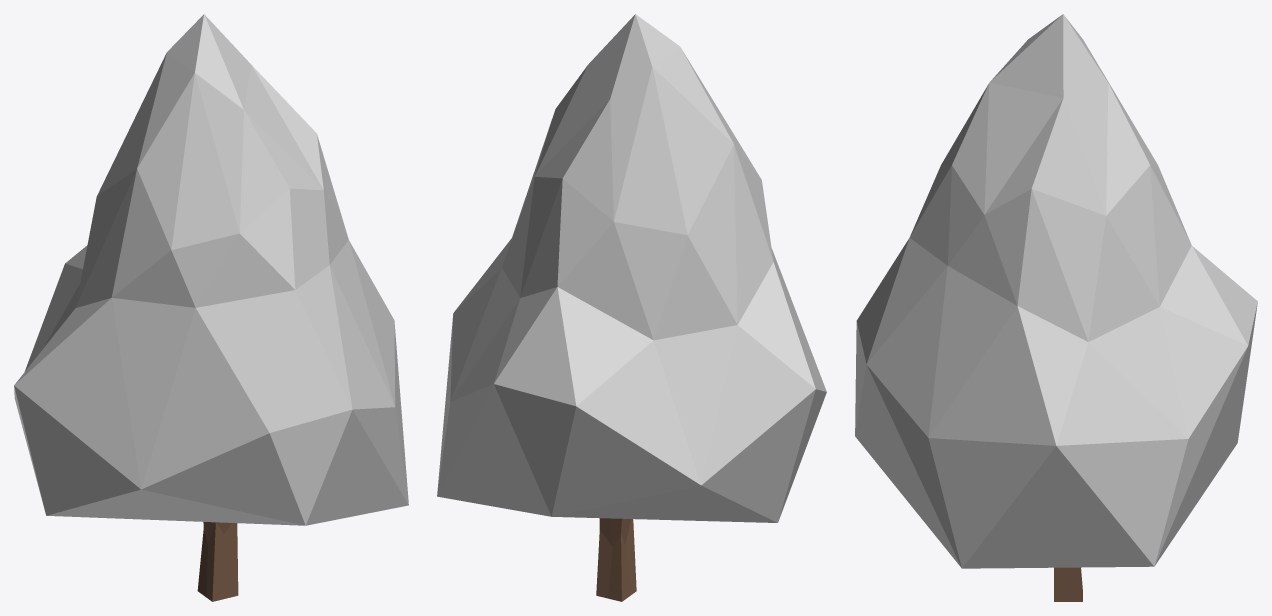
Rendered from Tree_14_White.fbx.
3 views of the same model, side by side, from view 1: azimuth 30°, elevation 25°; view 2: azimuth 150°, elevation 25°; view 3: azimuth 270°, elevation 25° (orthographic).
Parts seen in each view (by area): view 1: Tree_14_White_Part_1, Tree_14_White_Part_2; view 2: Tree_14_White_Part_1, Tree_14_White_Part_2; view 3: Tree_14_White_Part_1, Tree_14_White_Part_2.
Part boxes in pixels (<box>): Tree_14_White_Part_1: <box>14,14,408,525</box>; Tree_14_White_Part_2: <box>197,522,238,601</box>; Tree_14_White_Part_1: <box>437,14,826,522</box>; Tree_14_White_Part_2: <box>596,518,636,601</box>; Tree_14_White_Part_1: <box>855,14,1257,568</box>; Tree_14_White_Part_2: <box>1054,567,1082,601</box>.
Bounding box in the file's own units: 527 × 791 × 503.
